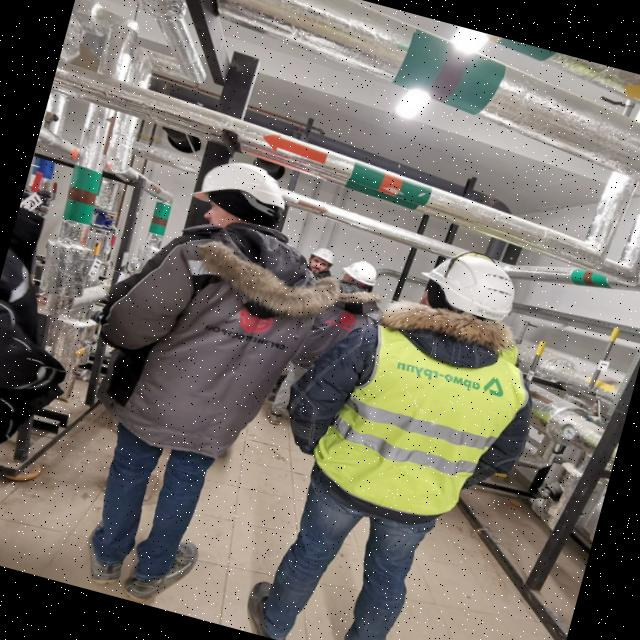Helmet: (413, 241, 523, 332), (187, 151, 294, 229), (339, 259, 382, 294), (308, 246, 339, 272)
Jacket: (330, 302, 527, 536)
NoJacket: (123, 208, 315, 464), (285, 276, 376, 385)
